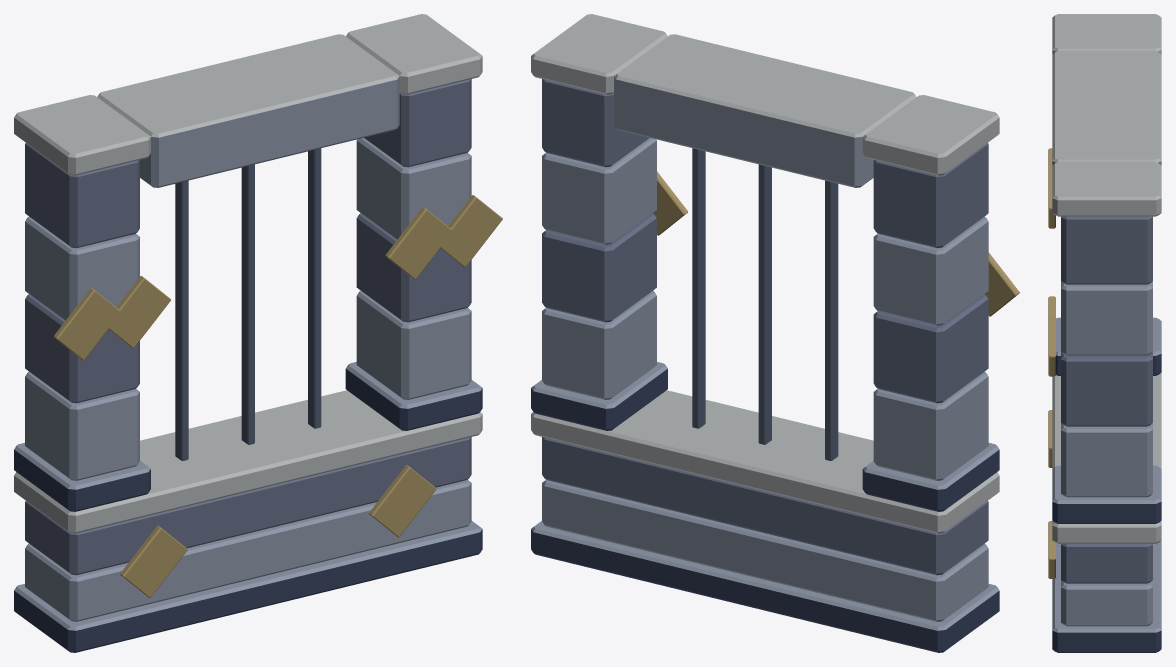
File: wall-window.glb
3 views of the same model, side by side, from view 1: azimuth 30°, elevation 25°; view 2: azimuth 150°, elevation 25°; view 3: azimuth 270°, elevation 25° (orthographic). The views are drawn at different scales.
Parts seen in each view (by area): view 1: wall-window__body; view 2: wall-window__body; view 3: wall-window__body.
Boxes of the visible parts, left/top/right/bottom form: wall-window__body: left=14, top=14, right=502, bottom=652; wall-window__body: left=531, top=14, right=1019, bottom=652; wall-window__body: left=1048, top=14, right=1161, bottom=652.
Bounding box in the file's own units: 2.15 × 2.3 × 0.5175.
